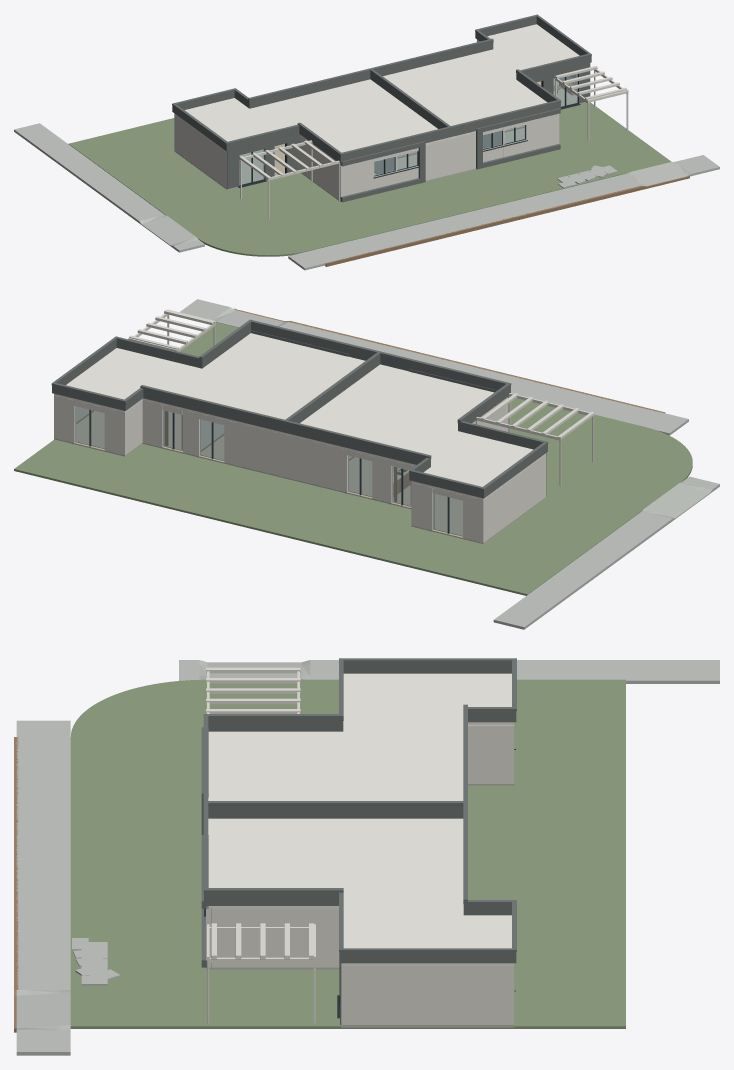
Rendered from viviendas.glb.
3 renders of one model, top to bottom at view 1: azimuth 30°, elevation 25°; view 2: azimuth 150°, elevation 25°; view 3: azimuth 270°, elevation 25°, orthographic. The views are drawn at different scales.
Visible parts, largest first — view 1: architecture-10, architecture-5, architecture-4, architecture-3, architecture-8, architecture-9, architecture-2, architecture-6, architecture-1; view 2: architecture-10, architecture-5, architecture-8, architecture-4, architecture-3, architecture-9, architecture-6, architecture-2, architecture-1; view 3: architecture-10, architecture-5, architecture-3, architecture-8, architecture-4, architecture-2.
Part boxes in pixels (left/top/right/bottom): architecture-10: left=68, top=102, right=671, bottom=256; architecture-5: left=174, top=24, right=579, bottom=161; architecture-4: left=172, top=14, right=591, bottom=202; architecture-3: left=14, top=102, right=719, bottom=270; architecture-8: left=174, top=41, right=628, bottom=218; architecture-9: left=239, top=74, right=577, bottom=184; architecture-2: left=325, top=74, right=689, bottom=266; architecture-6: left=174, top=78, right=576, bottom=201; architecture-1: left=238, top=74, right=580, bottom=187; architecture-10: left=14, top=322, right=692, bottom=595; architecture-5: left=54, top=333, right=545, bottom=500; architecture-8: left=54, top=309, right=594, bottom=542; architecture-4: left=51, top=319, right=548, bottom=498; architecture-3: left=54, top=299, right=719, bottom=629; architecture-9: left=75, top=406, right=462, bottom=536; architecture-6: left=54, top=411, right=545, bottom=543; architecture-2: left=76, top=308, right=665, bottom=528; architecture-1: left=72, top=407, right=462, bottom=536; architecture-10: left=70, top=679, right=625, bottom=1028; architecture-5: left=206, top=673, right=514, bottom=966; architecture-3: left=16, top=660, right=719, bottom=1055; architecture-8: left=206, top=667, right=514, bottom=1024; architecture-4: left=201, top=658, right=516, bottom=1024; architecture-2: left=14, top=737, right=18, bottom=1032.
Size of the model in its own units: 34.3 by 3.51 by 26.1.
